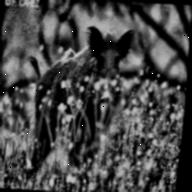boar: (15, 18, 136, 172)
